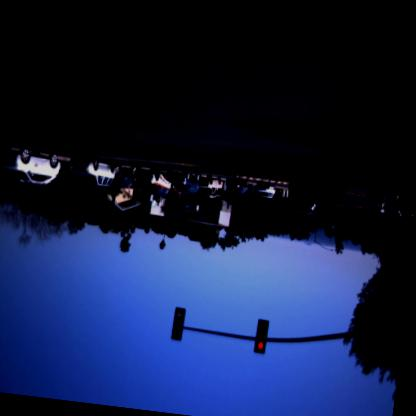trafficlight: (166, 307, 187, 345), (252, 314, 270, 356)
